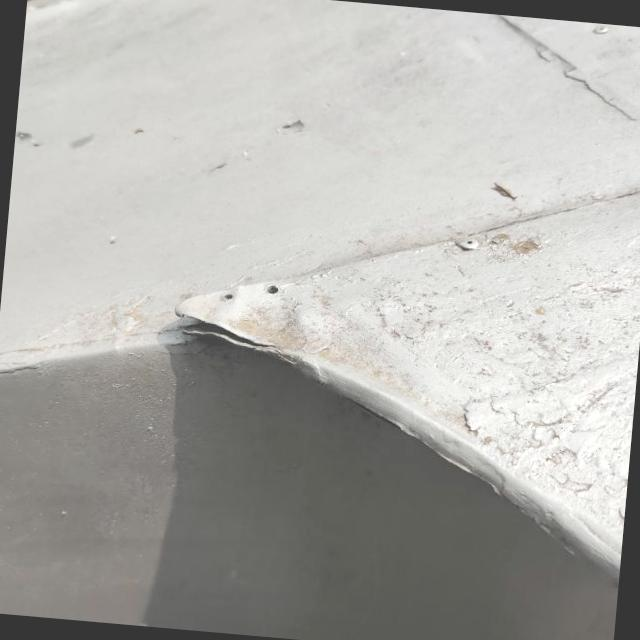crack: (158, 295, 302, 379)
